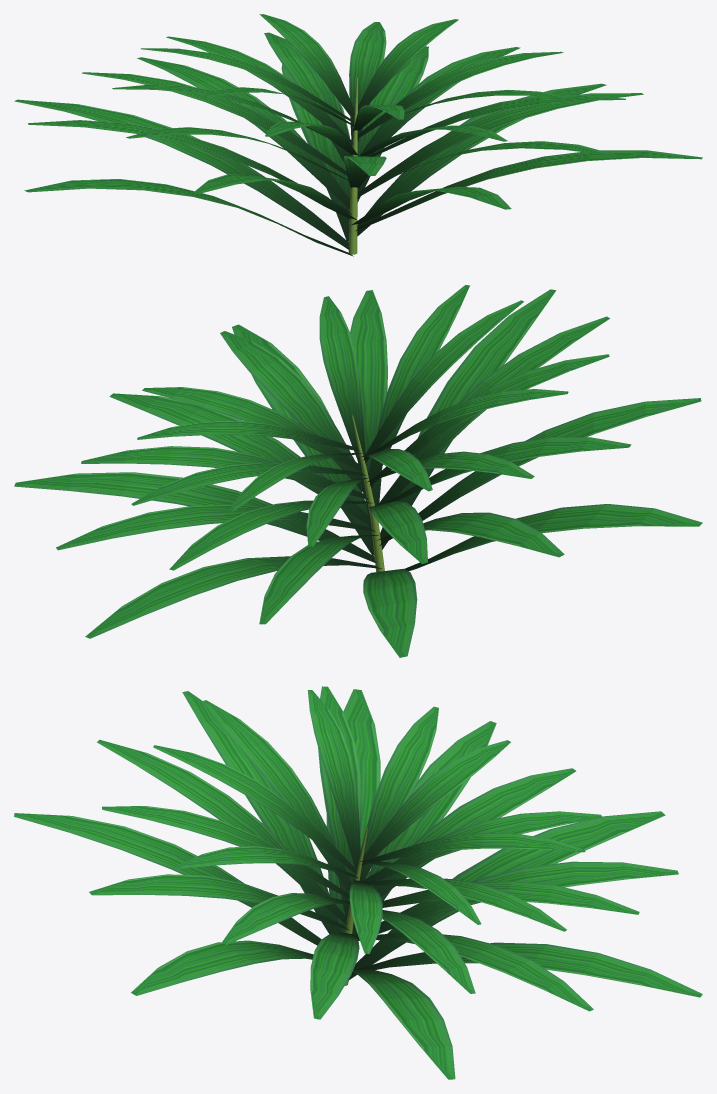
File: Plant4.fbx
3 renders of one model, top to bottom at view 1: azimuth 30°, elevation 25°; view 2: azimuth 150°, elevation 25°; view 3: azimuth 270°, elevation 25°, orthographic. The views are drawn at different scales.
Visible parts, largest first — view 1: TulipLeaf, Stem.004; view 2: TulipLeaf, Stem.004; view 3: TulipLeaf.
Part boxes in pixels (x1,y1,x2,y2): TulipLeaf: (14,14,702,256); Stem.004: (348,77,357,254); TulipLeaf: (14,285,702,657); Stem.004: (352,415,384,571); TulipLeaf: (14,686,702,1079).
Size of the model in its own units: 508 by 166 by 477.
